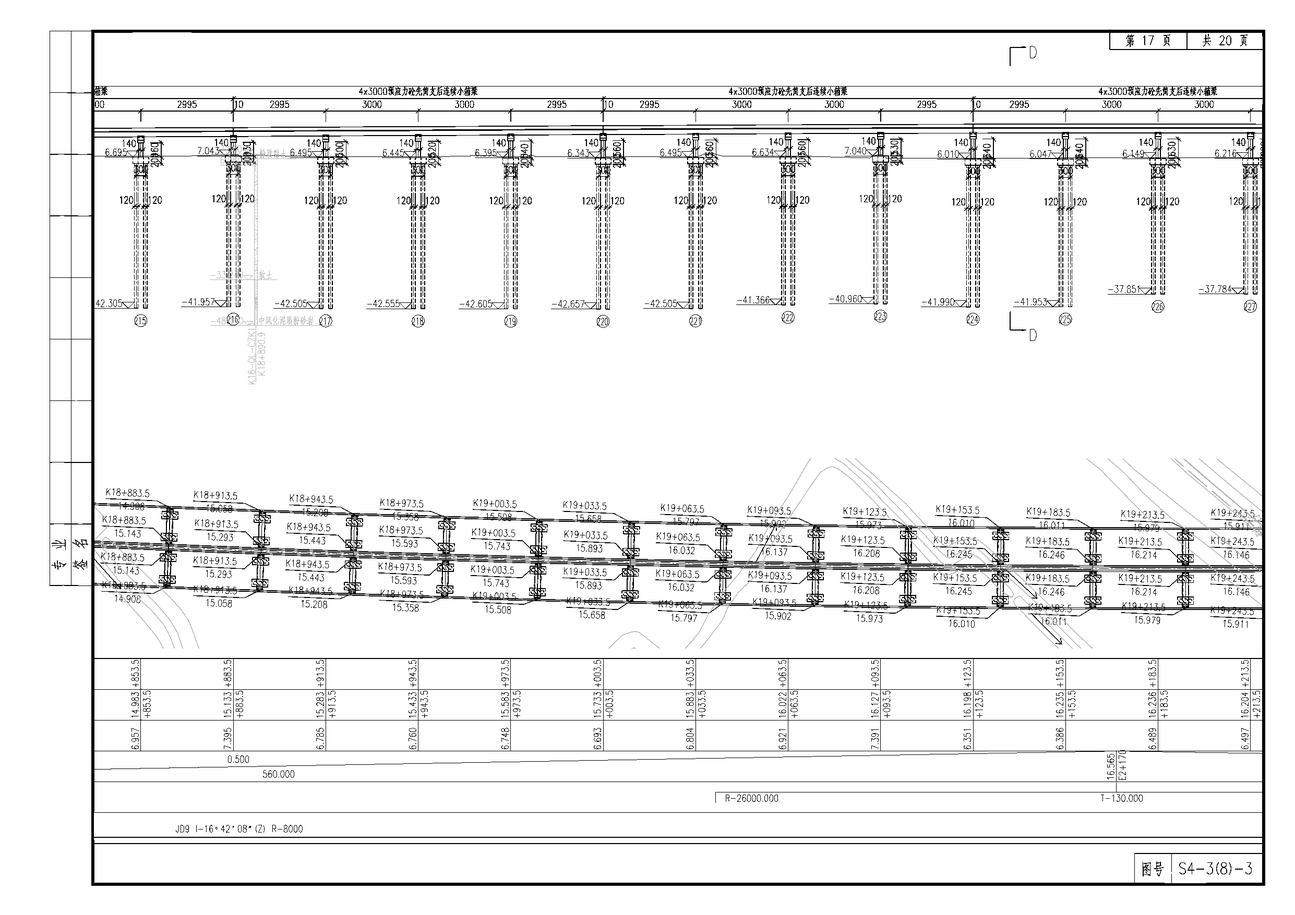A: (84, 42, 1268, 364)
